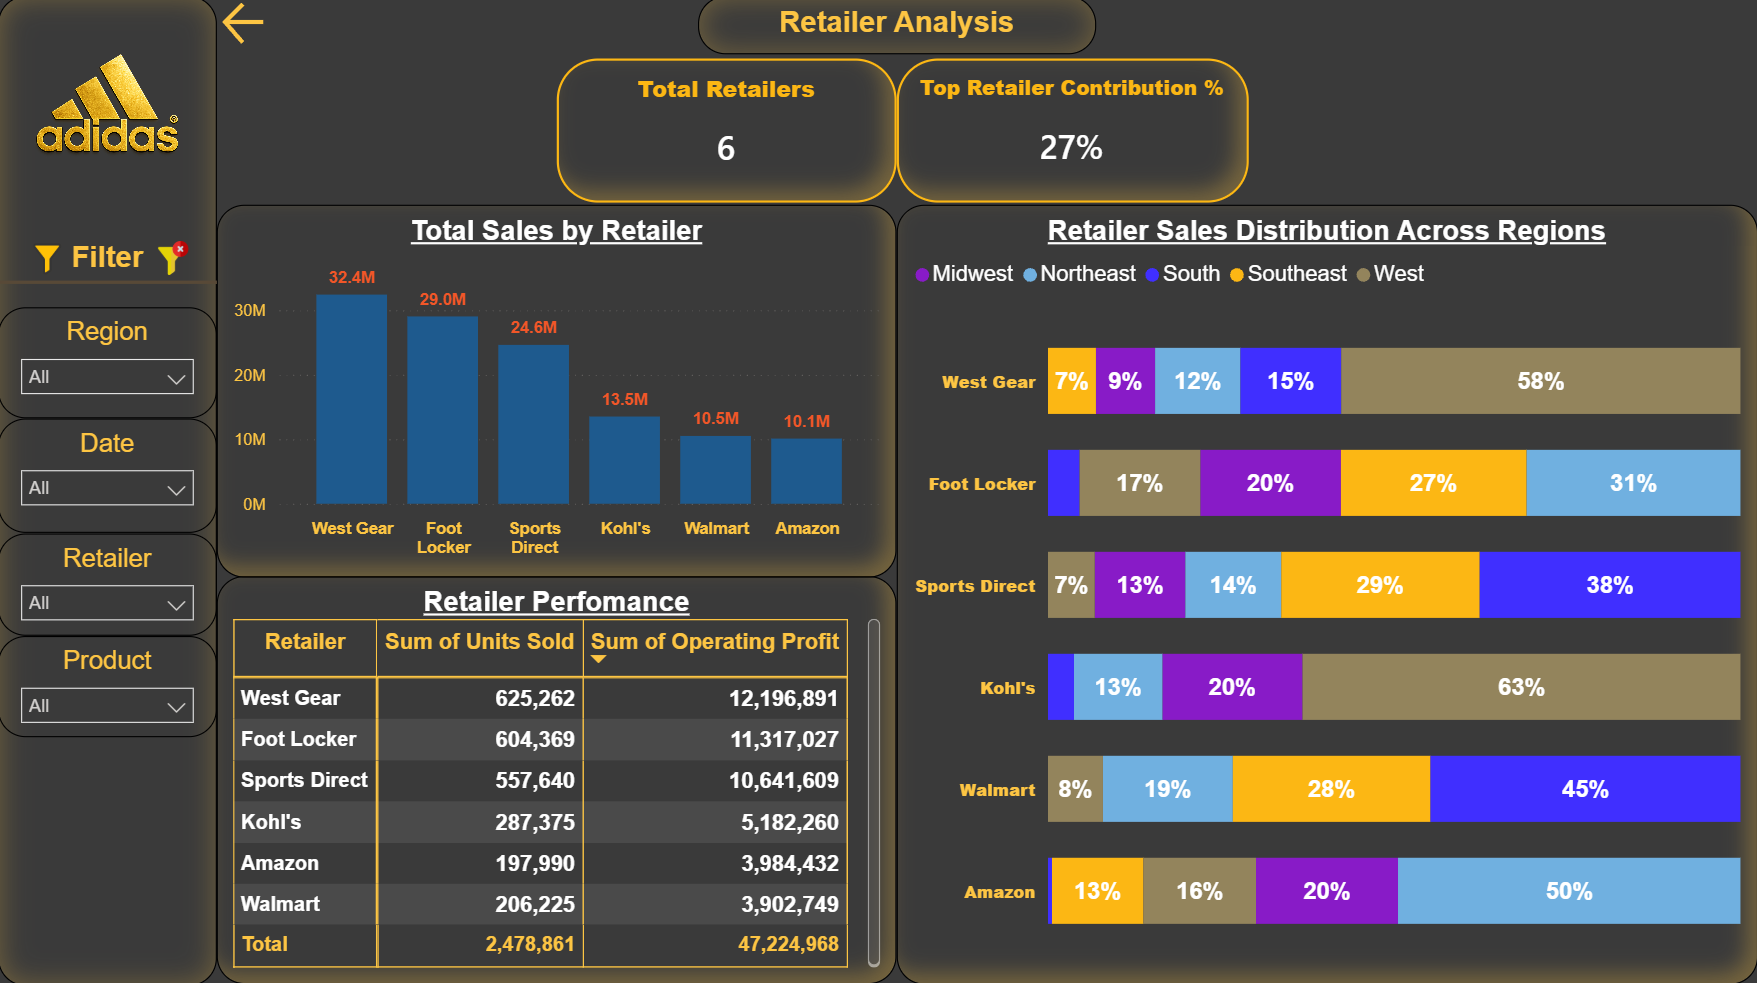

The page's visual inventory and layout, read from the dashboard file:
{"tool":"powerbi","page":{"name":"Retailer Analysis","canvas":[1280,720],"ordinal":3},"visuals":[{"type":"actionButton","box":[0,0,100,40],"z":0},{"type":"pivotTable","title":"Retailer Perfomance","fields":{"Rows":["Adidas Sales.Retailer"],"Values":["Sum(Adidas Sales.Units Sold)","Sum(Adidas Sales.Operating Profit)"]},"box":[159.3,422.3,494.6,296.8],"z":1000},{"type":"cardVisual","title":"Total Retailers","fields":{"Data":["Count(Adidas Sales.Retailer)"]},"box":[406.6,45.6,247.3,105],"z":2000},{"type":"cardVisual","title":"Top Retailer Contribution %","fields":{"Data":["Adidas Sales.Top Retailer Contribution %"]},"box":[653.9,45.8,255.8,105],"z":3000},{"type":"columnChart","title":"Total Sales by Retailer","fields":{"Category":["Adidas Sales.Retailer"],"Y":["Sum(Adidas Sales.Total Sales)"]},"box":[159.3,152,494.6,271.4],"z":4000},{"type":"hundredPercentStackedBarChart","title":"Retailer Sales Distribution Across Regions","fields":{"Category":["Adidas Sales.Retailer"],"Series":["Adidas Sales.Region"],"Y":["Sum(Adidas Sales.Total Sales)"]},"box":[653.9,152,626.1,567],"z":5000},{"type":"shape","box":[0,0,159.3,720.2],"z":7000},{"type":"slicer","title":"Product","fields":{"Values":["Adidas Sales.Product"]},"box":[0,465.7,159.3,73.6],"z":8000},{"type":"slicer","title":"Region","fields":{"Values":["Adidas Sales.Region","Adidas Sales.City"]},"box":[0,226.8,159.3,80.8],"z":9000},{"type":"slicer","title":"Retailer","fields":{"Values":["Adidas Sales.Retailer"]},"box":[0,390.9,159.3,74.8],"z":10000},{"type":"slicer","title":"Date","fields":{"Values":["Adidas Sales.Invoice Date.Variation.Date Hierarchy.Year","Adidas Sales.Invoice Date.Variation.Date Hierarchy.Month"]},"box":[0,307.6,159.3,83.2],"z":11000},{"type":"actionButton","box":[159.3,0,47.1,39.8],"z":12000},{"type":"image","box":[0,20.5,159.3,130.3],"z":13000},{"type":"shape","title":"Retailer Analysis","box":[509.1,0,289.5,42.2],"z":14000},{"type":"shape","title":"Filter","box":[0,178.6,159.3,42.2],"z":15000},{"type":"image","box":[8.4,178.6,55.5,26.5],"z":16000},{"type":"image","box":[105.7,177.9,44.3,25],"z":17000}]}

Visuals, with their boxes in screenshot pixels (x1, y1, x2, y2), scaled from the page's 1280x720 canvas onto the 1757x983 screenshot:
actionButton: detection(0, 0, 137, 55)
"Retailer Perfomance" pivotTable: detection(219, 577, 898, 982)
"Total Retailers" cardVisual: detection(558, 62, 898, 206)
"Top Retailer Contribution %" cardVisual: detection(898, 63, 1249, 206)
"Total Sales by Retailer" columnChart: detection(219, 208, 898, 578)
"Retailer Sales Distribution Across Regions" hundredPercentStackedBarChart: detection(898, 208, 1756, 982)
shape: detection(0, 0, 219, 982)
"Product" slicer: detection(0, 636, 219, 736)
"Region" slicer: detection(0, 310, 219, 420)
"Retailer" slicer: detection(0, 534, 219, 636)
"Date" slicer: detection(0, 420, 219, 534)
actionButton: detection(219, 0, 283, 54)
image: detection(0, 28, 219, 206)
"Retailer Analysis" shape: detection(699, 0, 1096, 58)
"Filter" shape: detection(0, 244, 219, 301)
image: detection(12, 244, 88, 280)
image: detection(145, 243, 206, 277)
